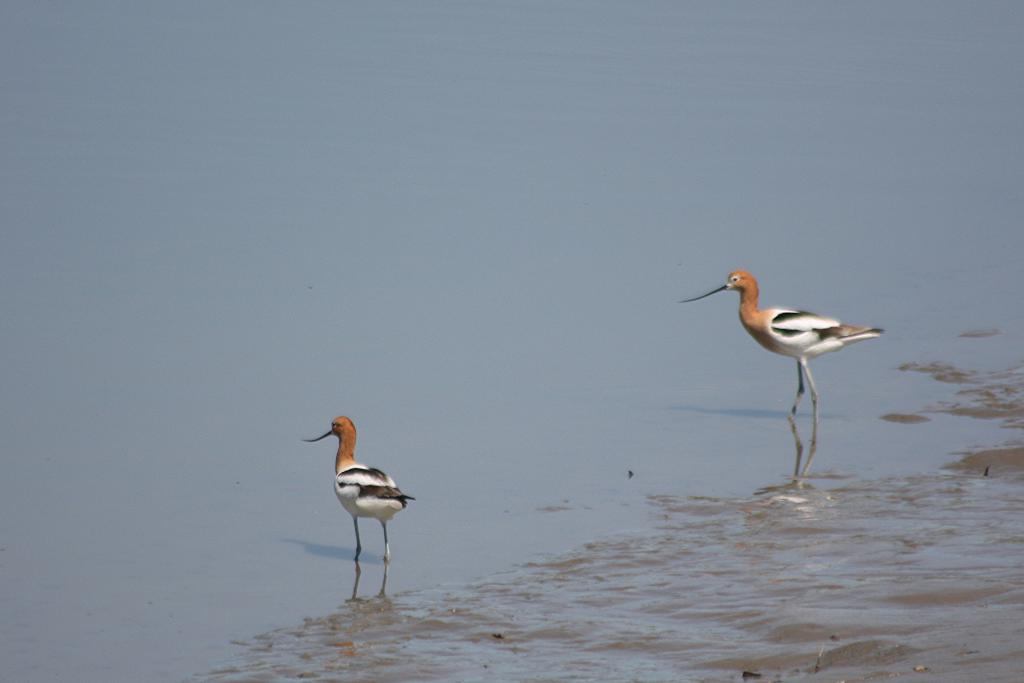Bird: (678, 270, 885, 420), (301, 417, 417, 565)
